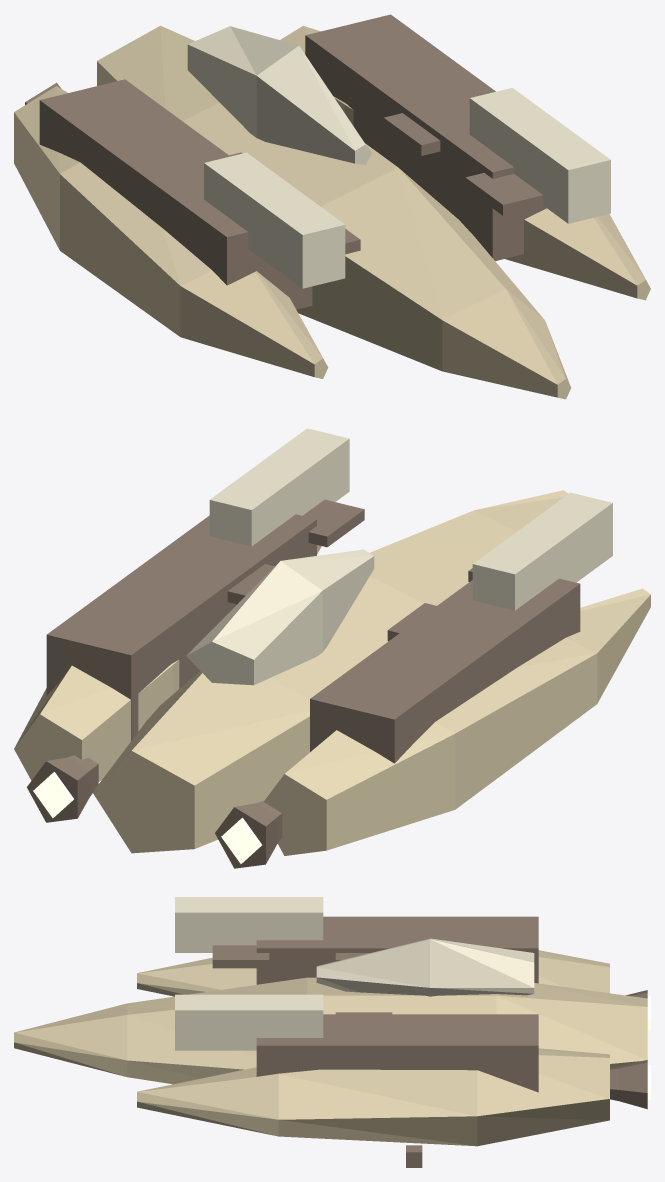
3 views of the same model, one above another, from view 1: azimuth 30°, elevation 25°; view 2: azimuth 150°, elevation 25°; view 3: azimuth 270°, elevation 25° (orthographic). The views are drawn at different scales.
Size of the model in its own units: 9.97 by 4.82 by 17.15.
